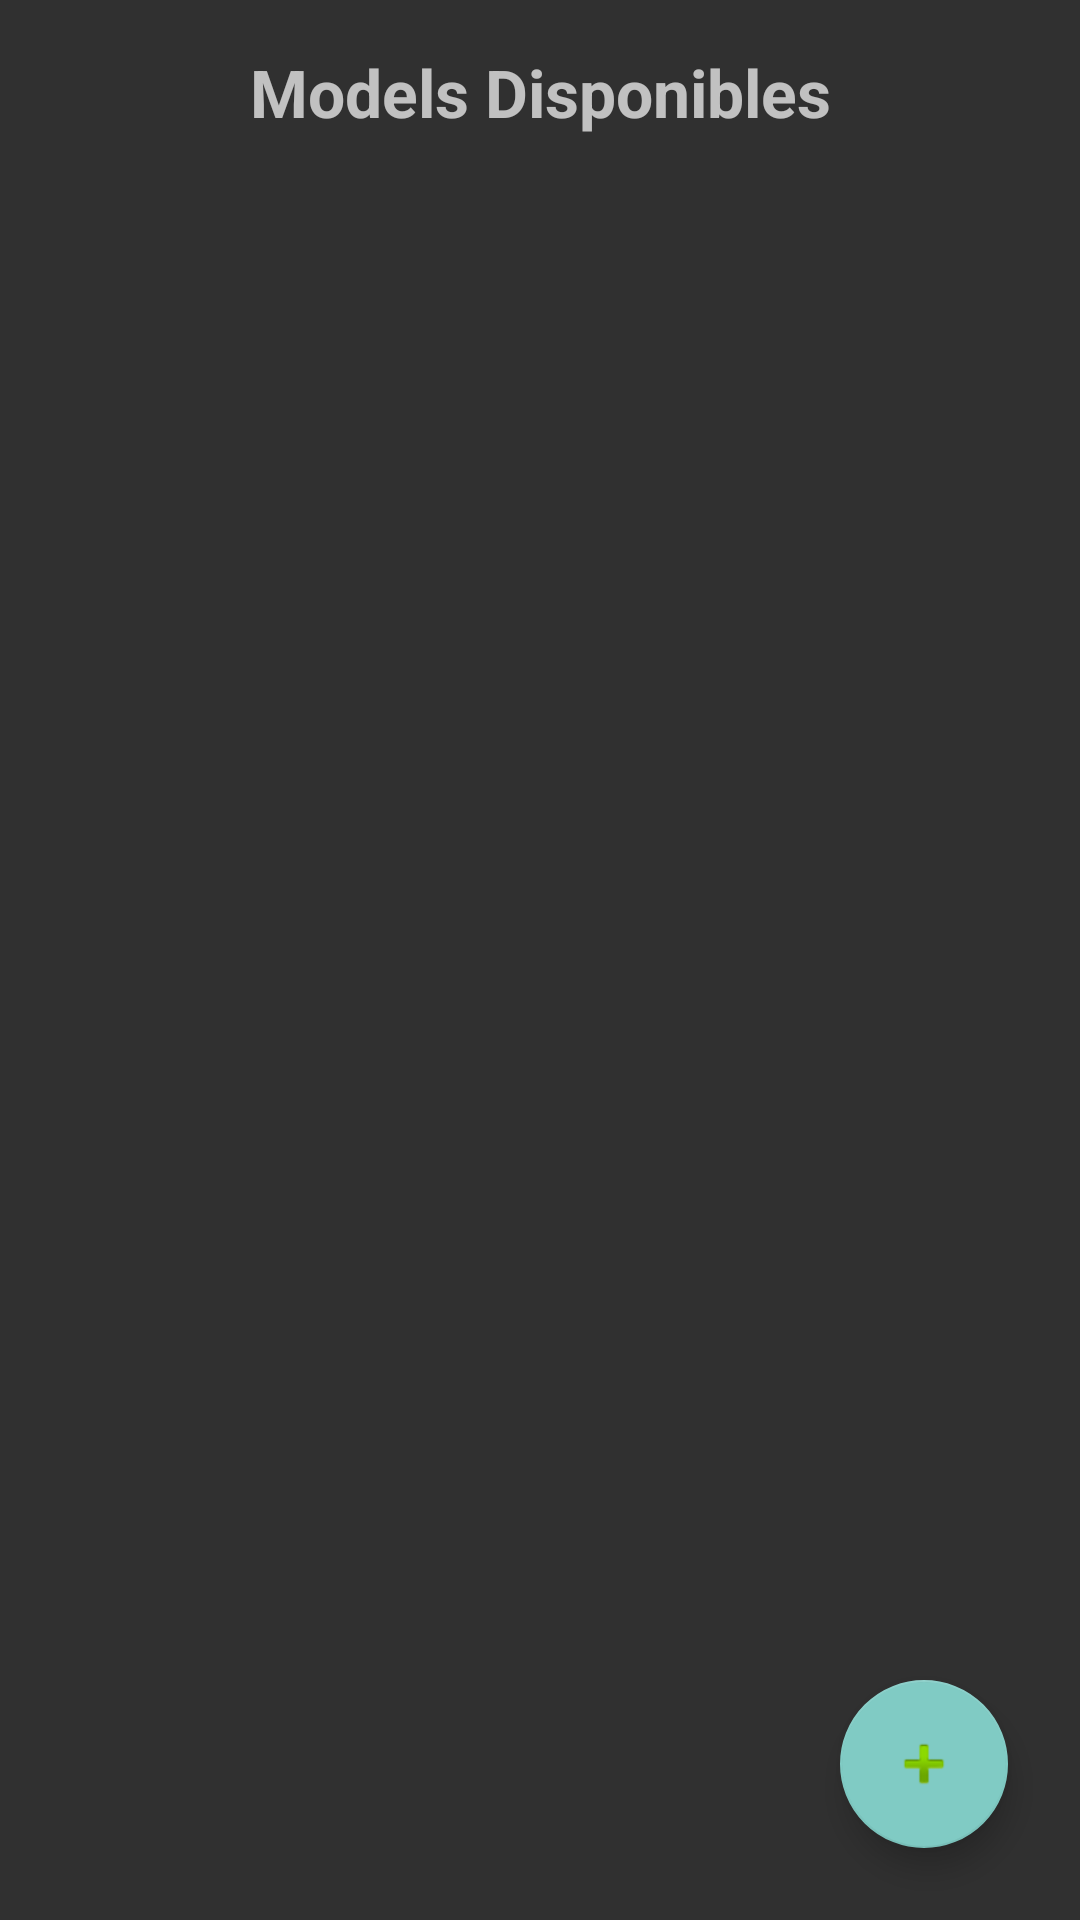

Locate icon controls on the screen. Image size 1080×1920, boxes as (x1, y1, x2, y2).
Nouveau Model: (840, 1680, 1008, 1848)
